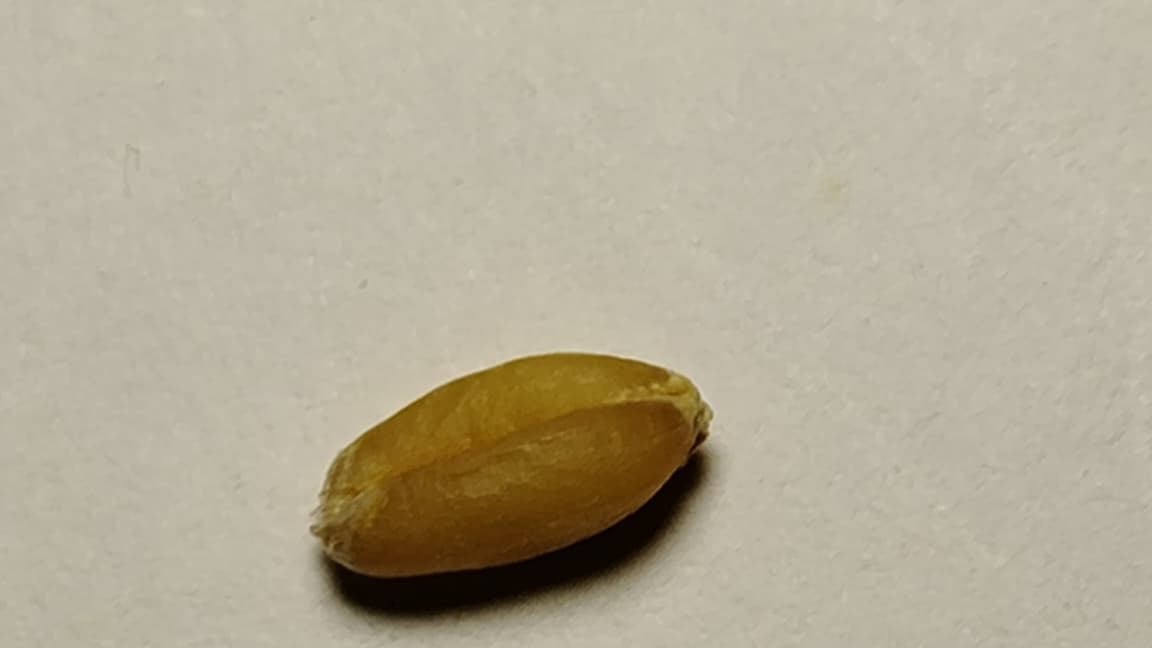healthy: (311, 351, 712, 578)
